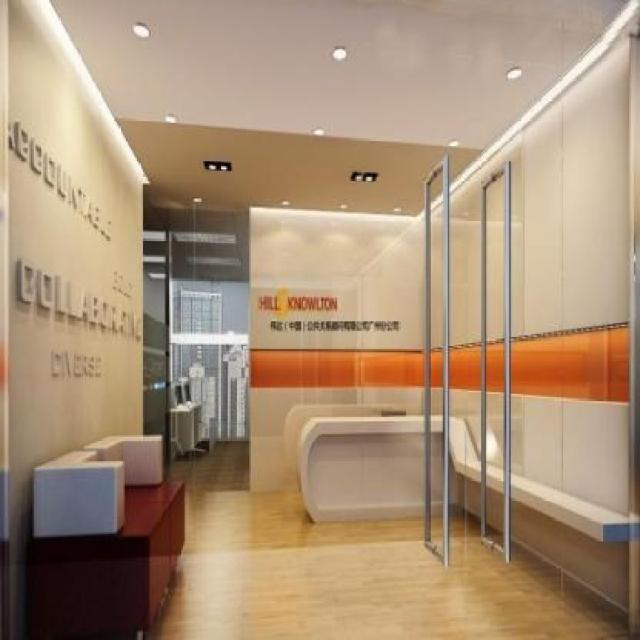frontdesk: (284, 397, 476, 528)
